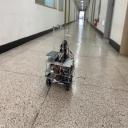cart: (46, 54, 74, 91)
